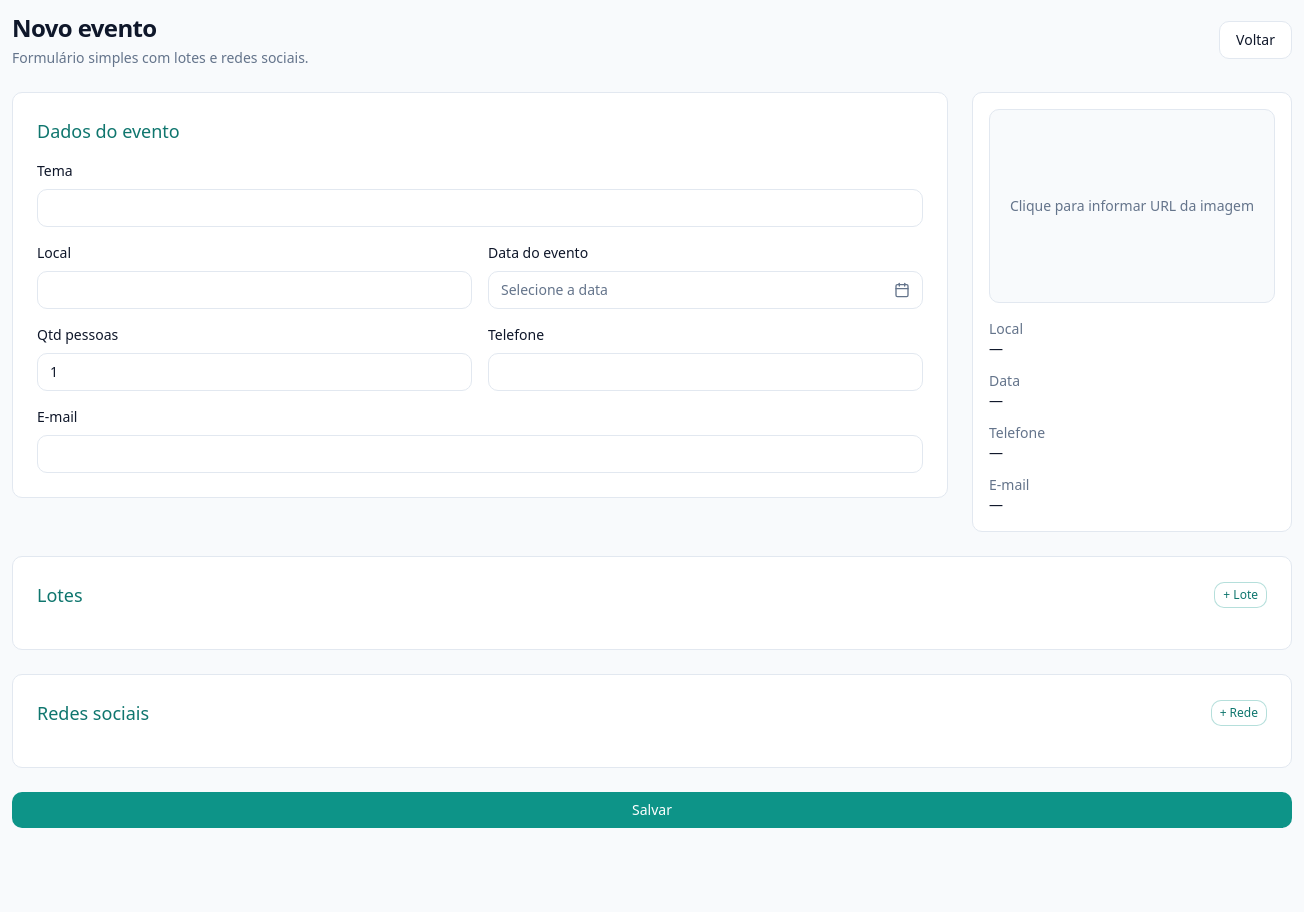
it: EventoDetailPage › exibe erro ao falhar ao salvar
The width and height of the screenshot is (1304, 912).
Type "Falha Evento" into the field labelled "Tema" at (480, 208), box [37,189,923,227]
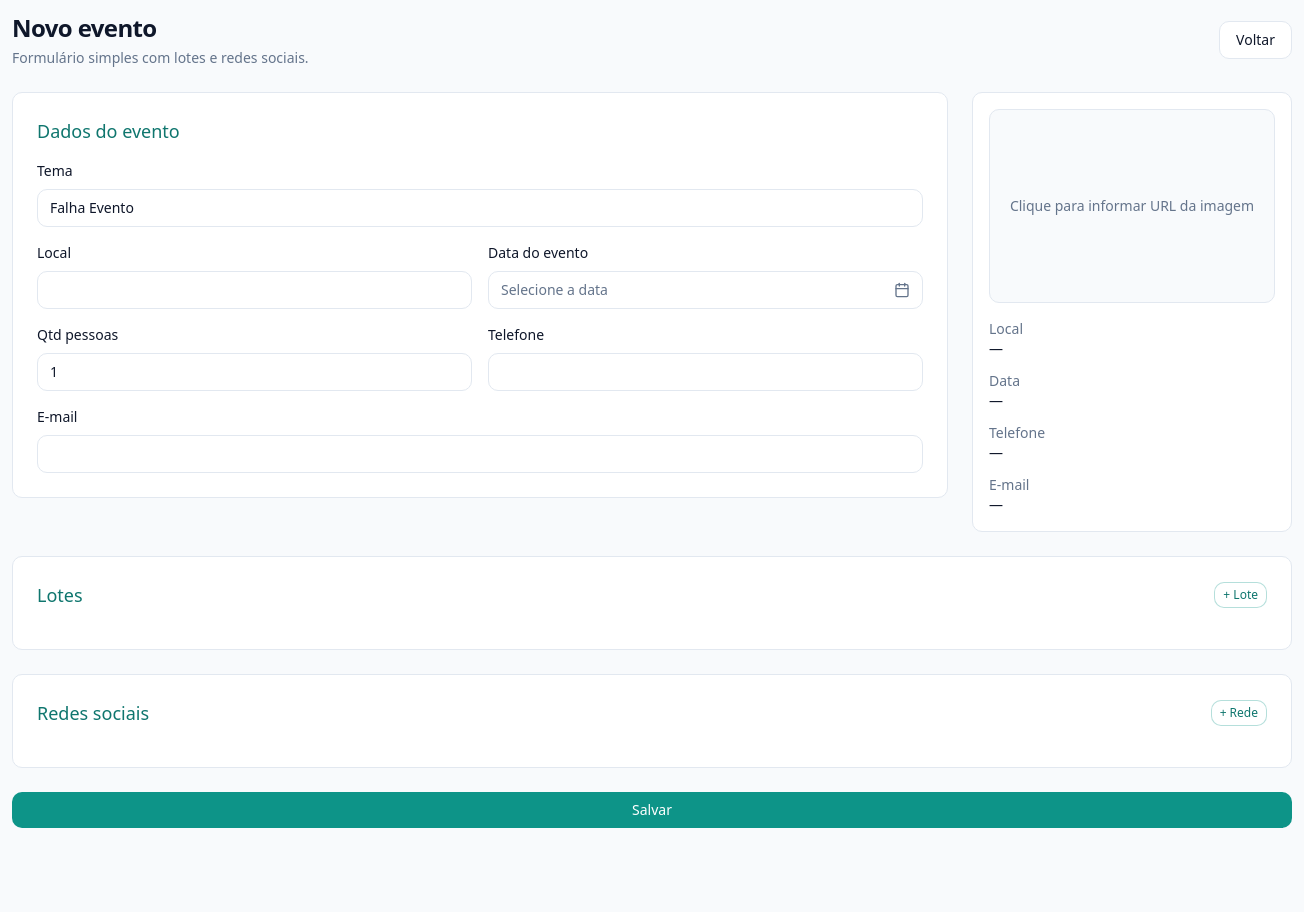
Type "SP" into the field labelled "Local" at (254, 290), box [37,271,472,309]
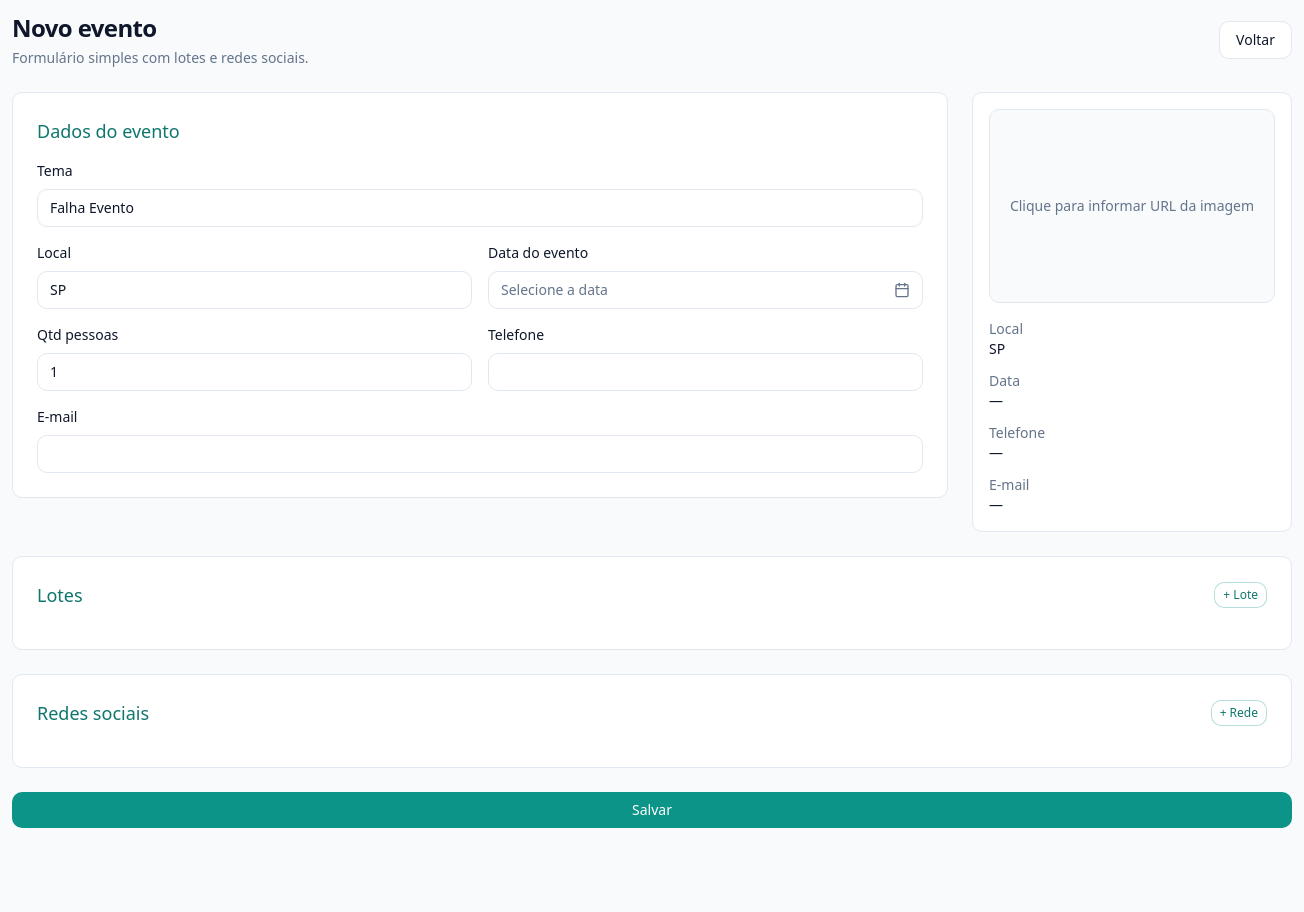
Replace the text in the field labelled "Data do evento" with "2026-01-01" at (706, 276), box [488,243,923,309]
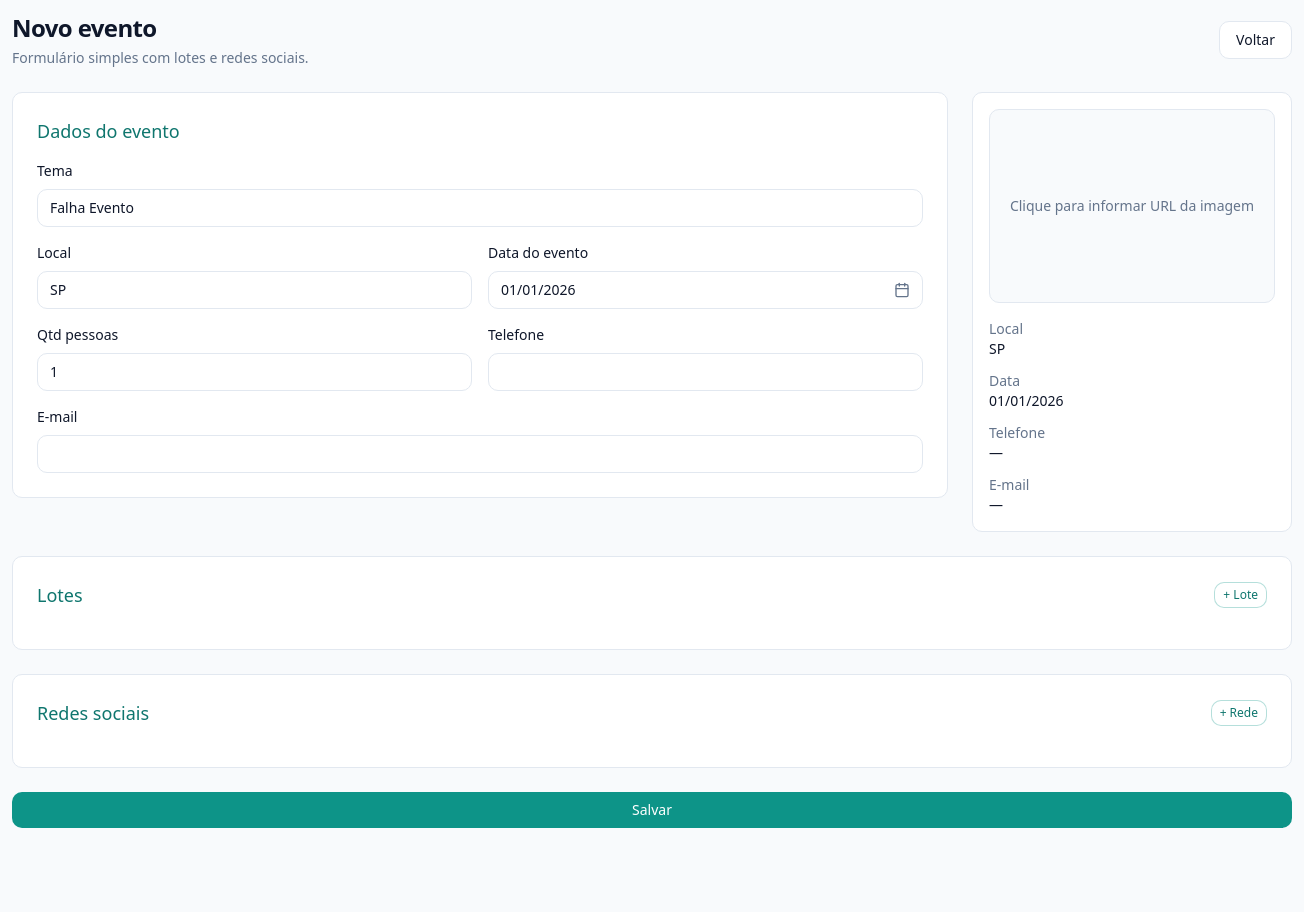
Type "11999999999" into the field labelled "Telefone" at (706, 372), box [488,353,923,391]
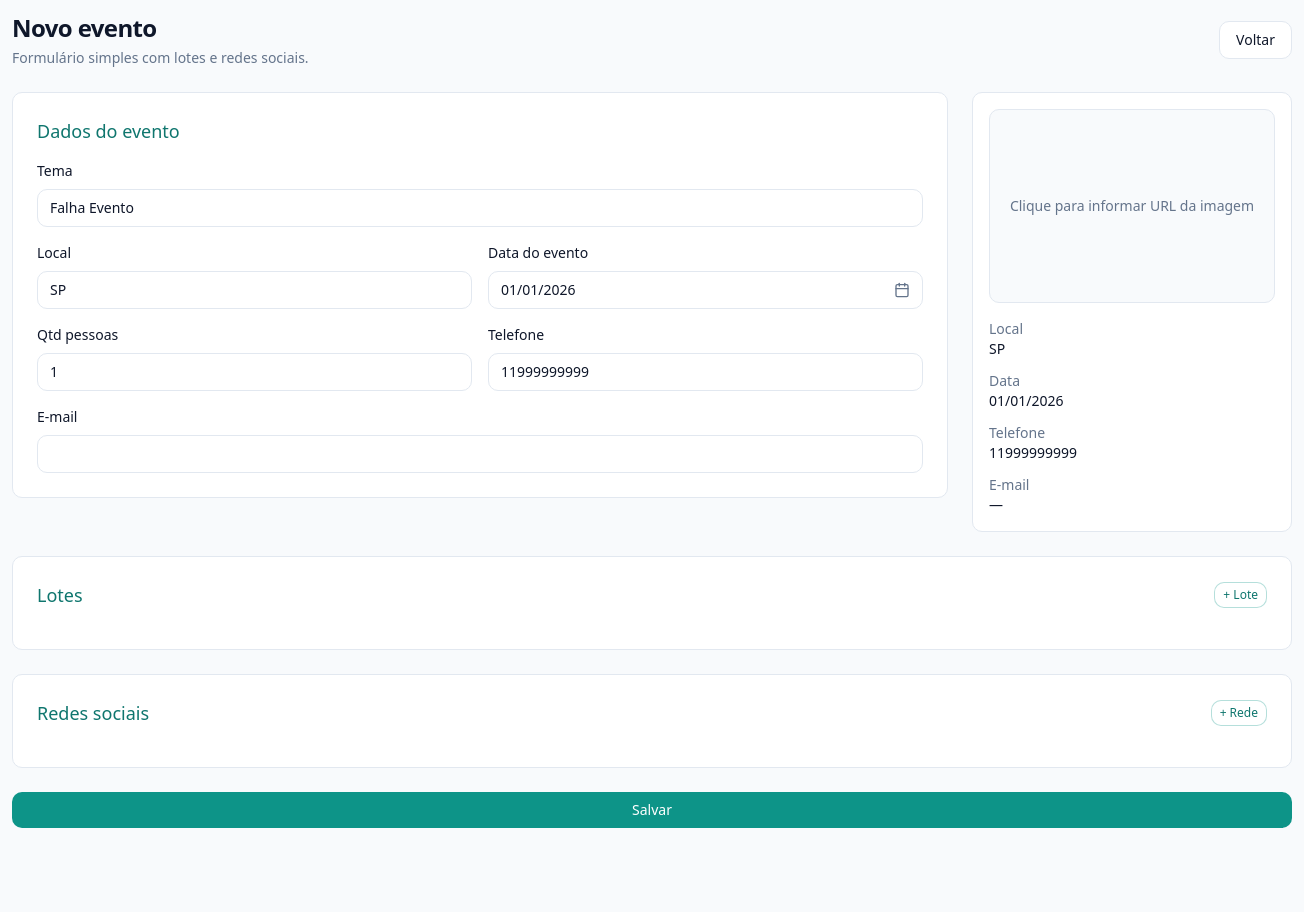
Type "falha@example.com" into the field labelled "E-mail" at (480, 454), box [37,435,923,473]
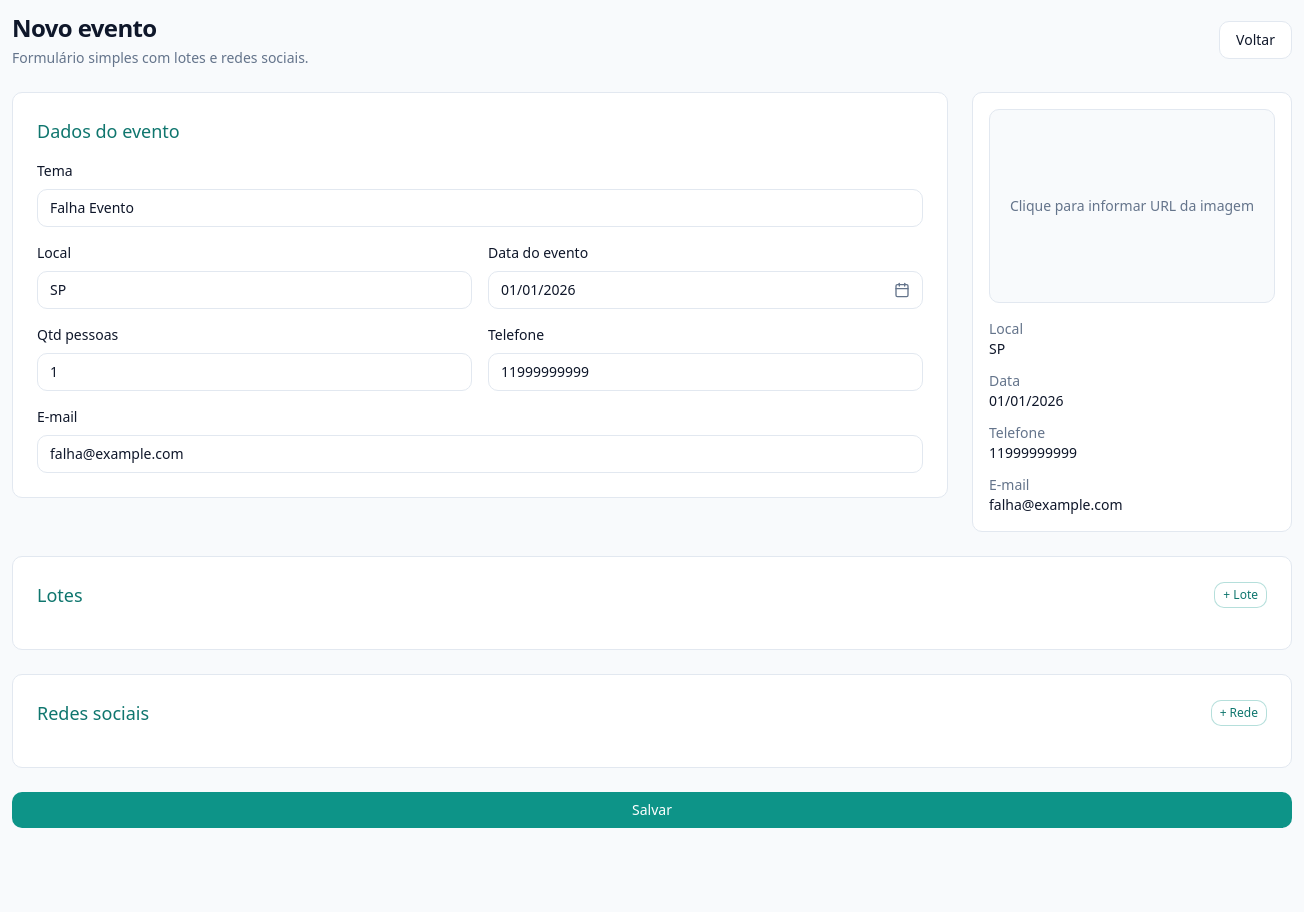
Click the button "Salvar" at (652, 810), box [12,792,1292,828]
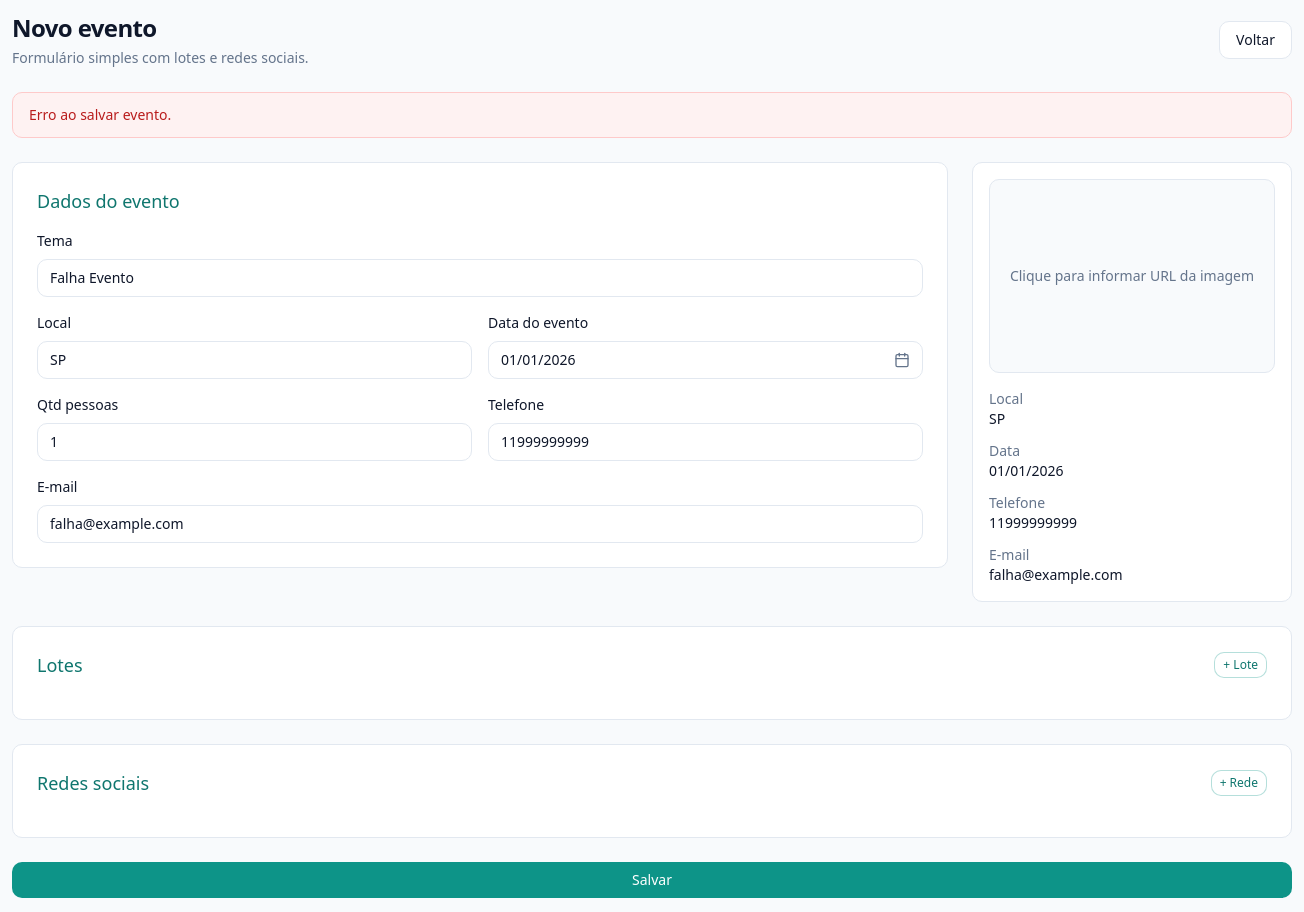
expect the text "Erro ao salvar evento." is shown: met, box [12,92,1292,138]
